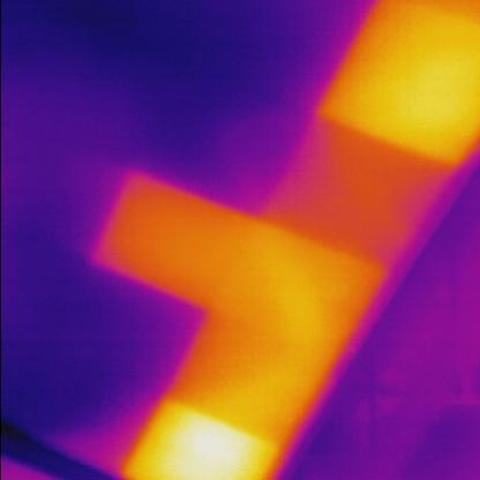fault: (167, 418, 254, 478)
